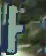Parking: (6, 2, 40, 54)
